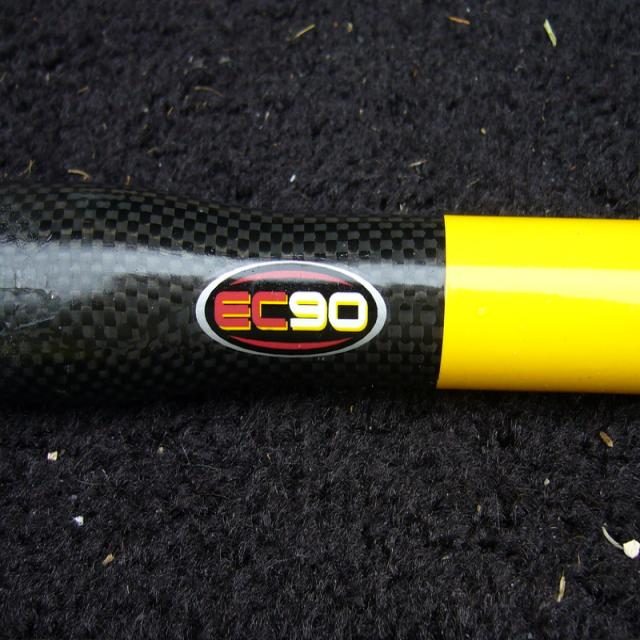tool: (0, 185, 639, 401)
